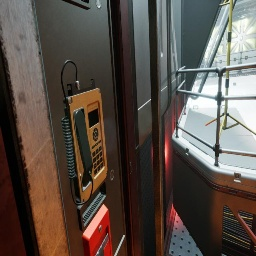EmergencyPhone ,: (61, 60, 107, 206)
FireAlarm ,: (82, 204, 112, 256)
